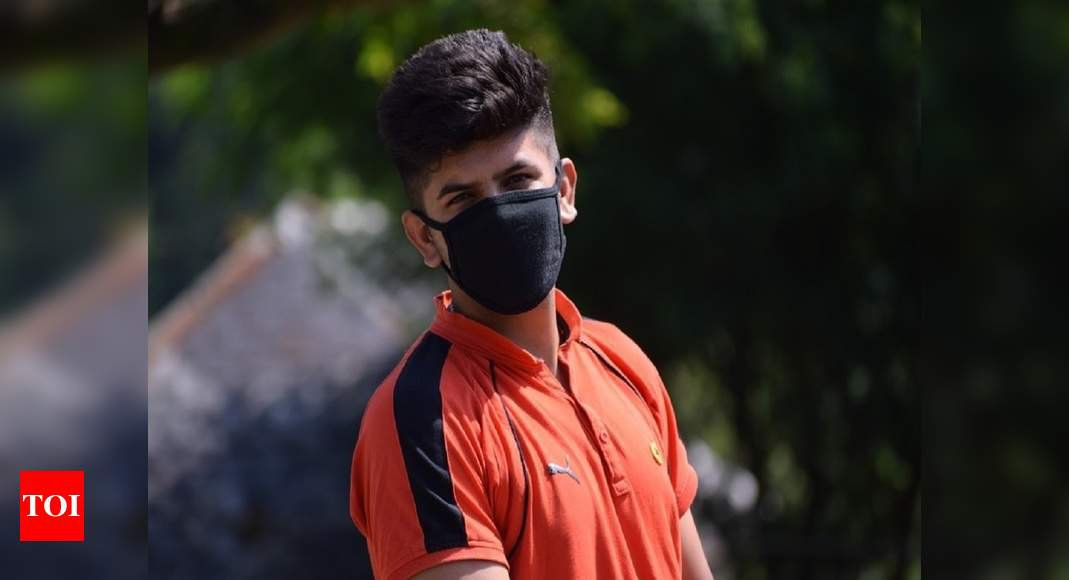mask: (348, 8, 603, 334)
